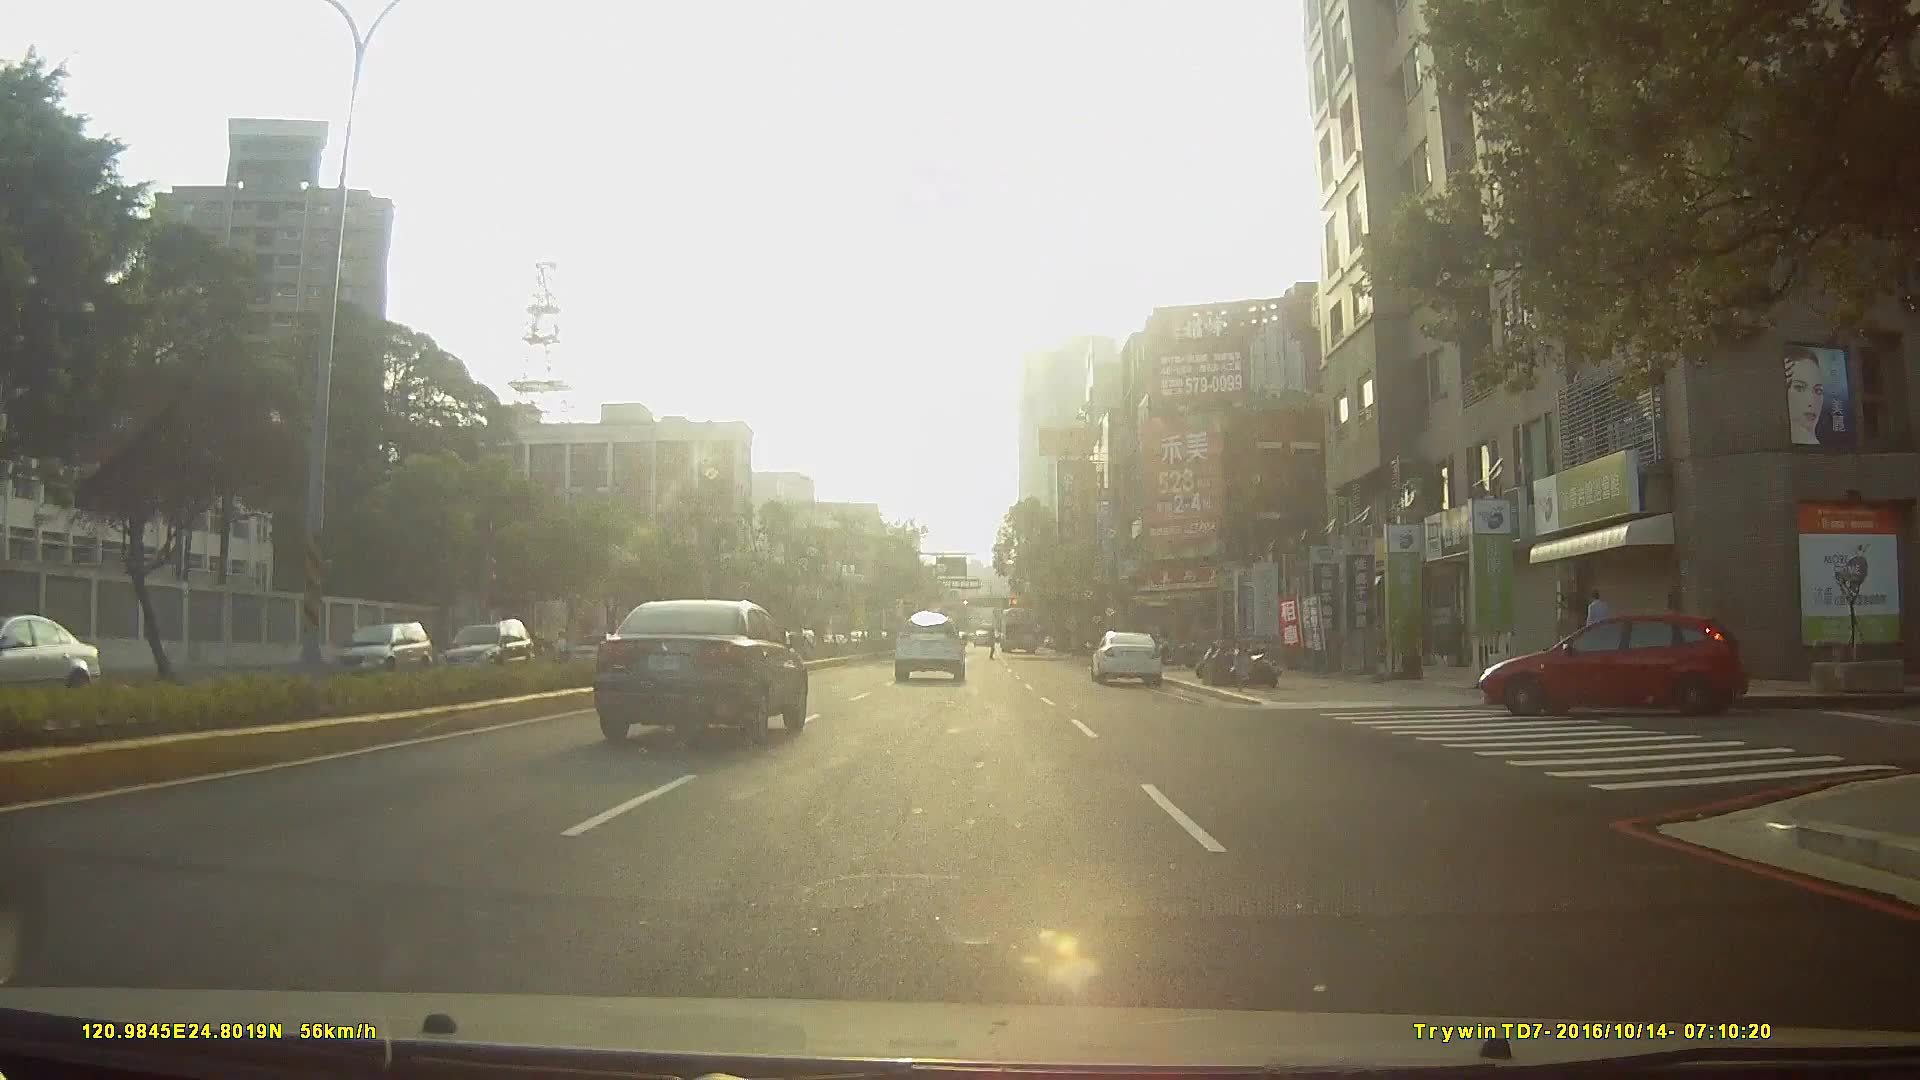pedestrian: (1582, 590, 1612, 670)
vehicle: (1471, 605, 1762, 721), (596, 594, 810, 740), (1, 611, 117, 704), (327, 611, 435, 675), (421, 617, 526, 679), (892, 608, 966, 679), (1089, 627, 1166, 682), (996, 601, 1041, 650), (567, 630, 617, 663)
